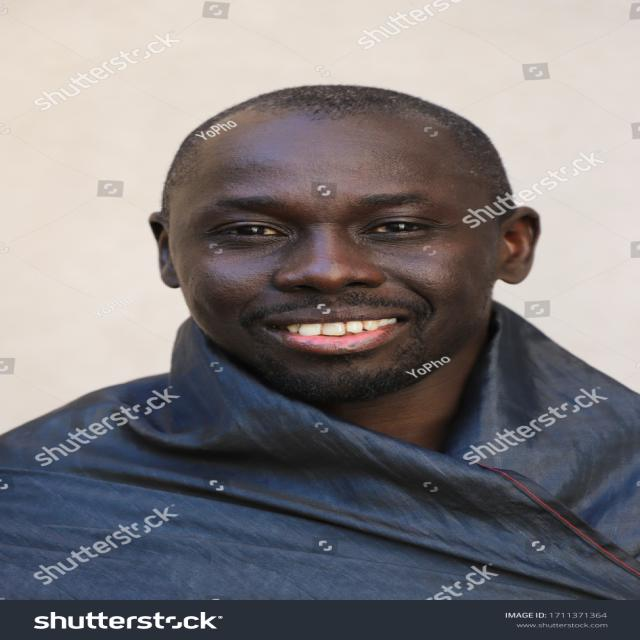sem_oculos: (150, 183, 541, 256)
